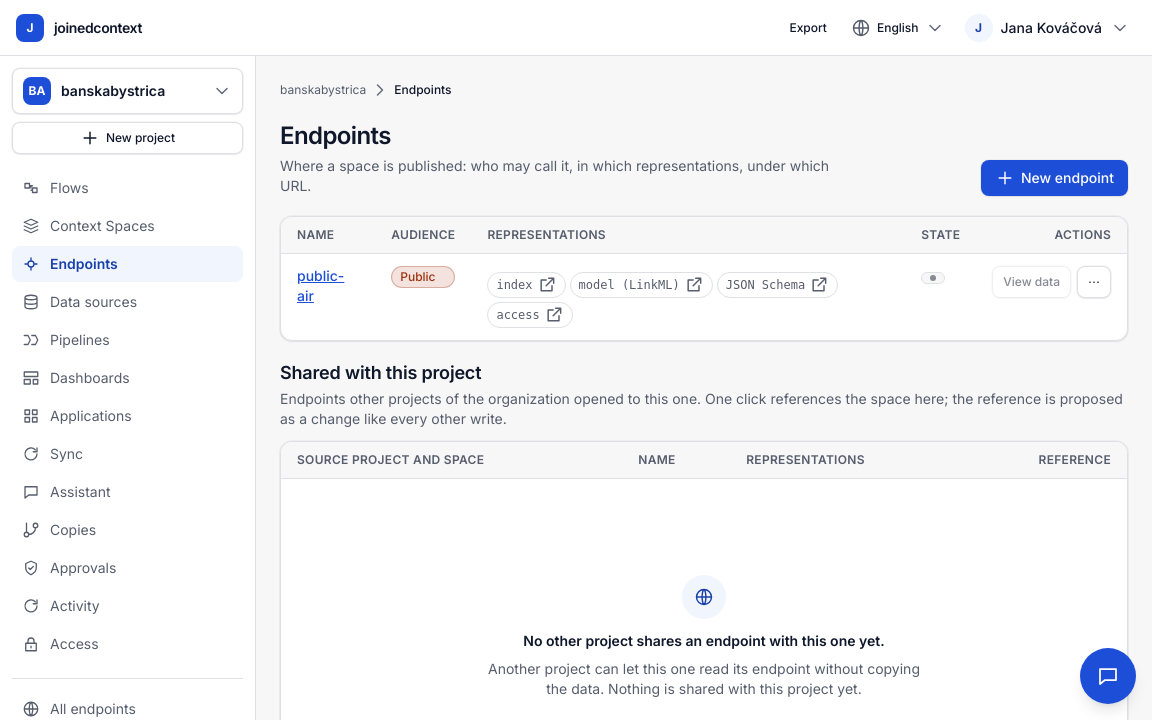
Test: export modal › says secrets are never in a download
Click the button "Export" at (808, 28), box [779,12,837,44]
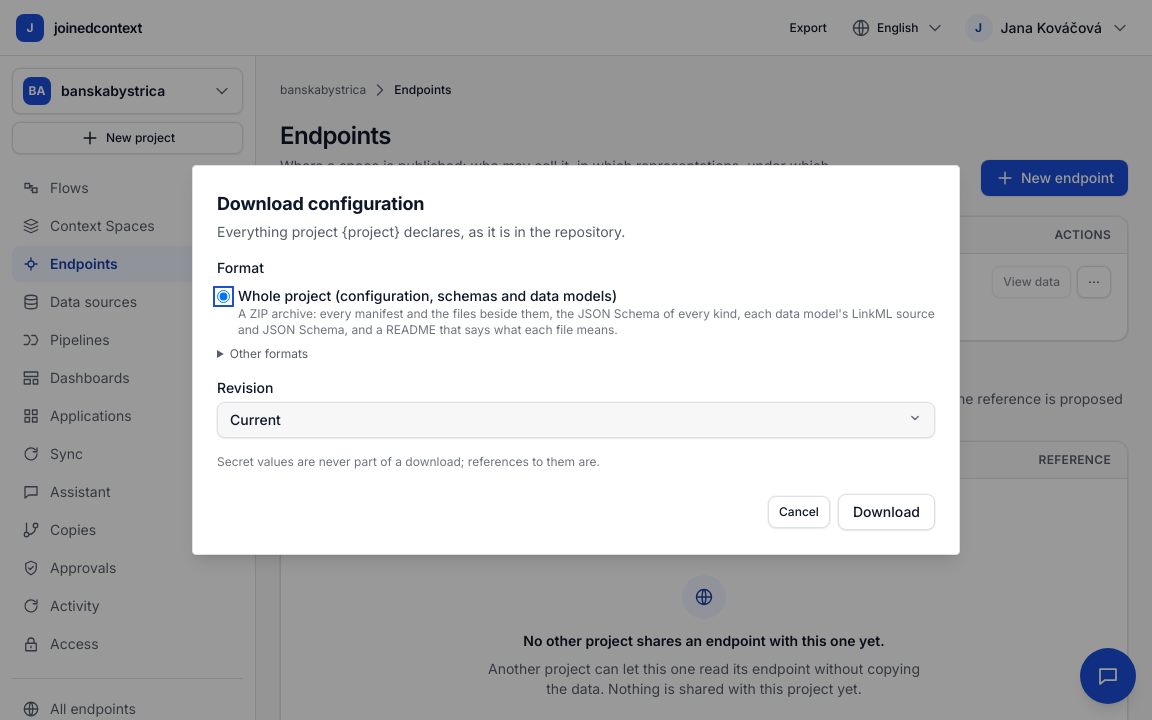
Now the text "Secret values are never part of a download; references to them are." is shown, box [217,454,600,469]
